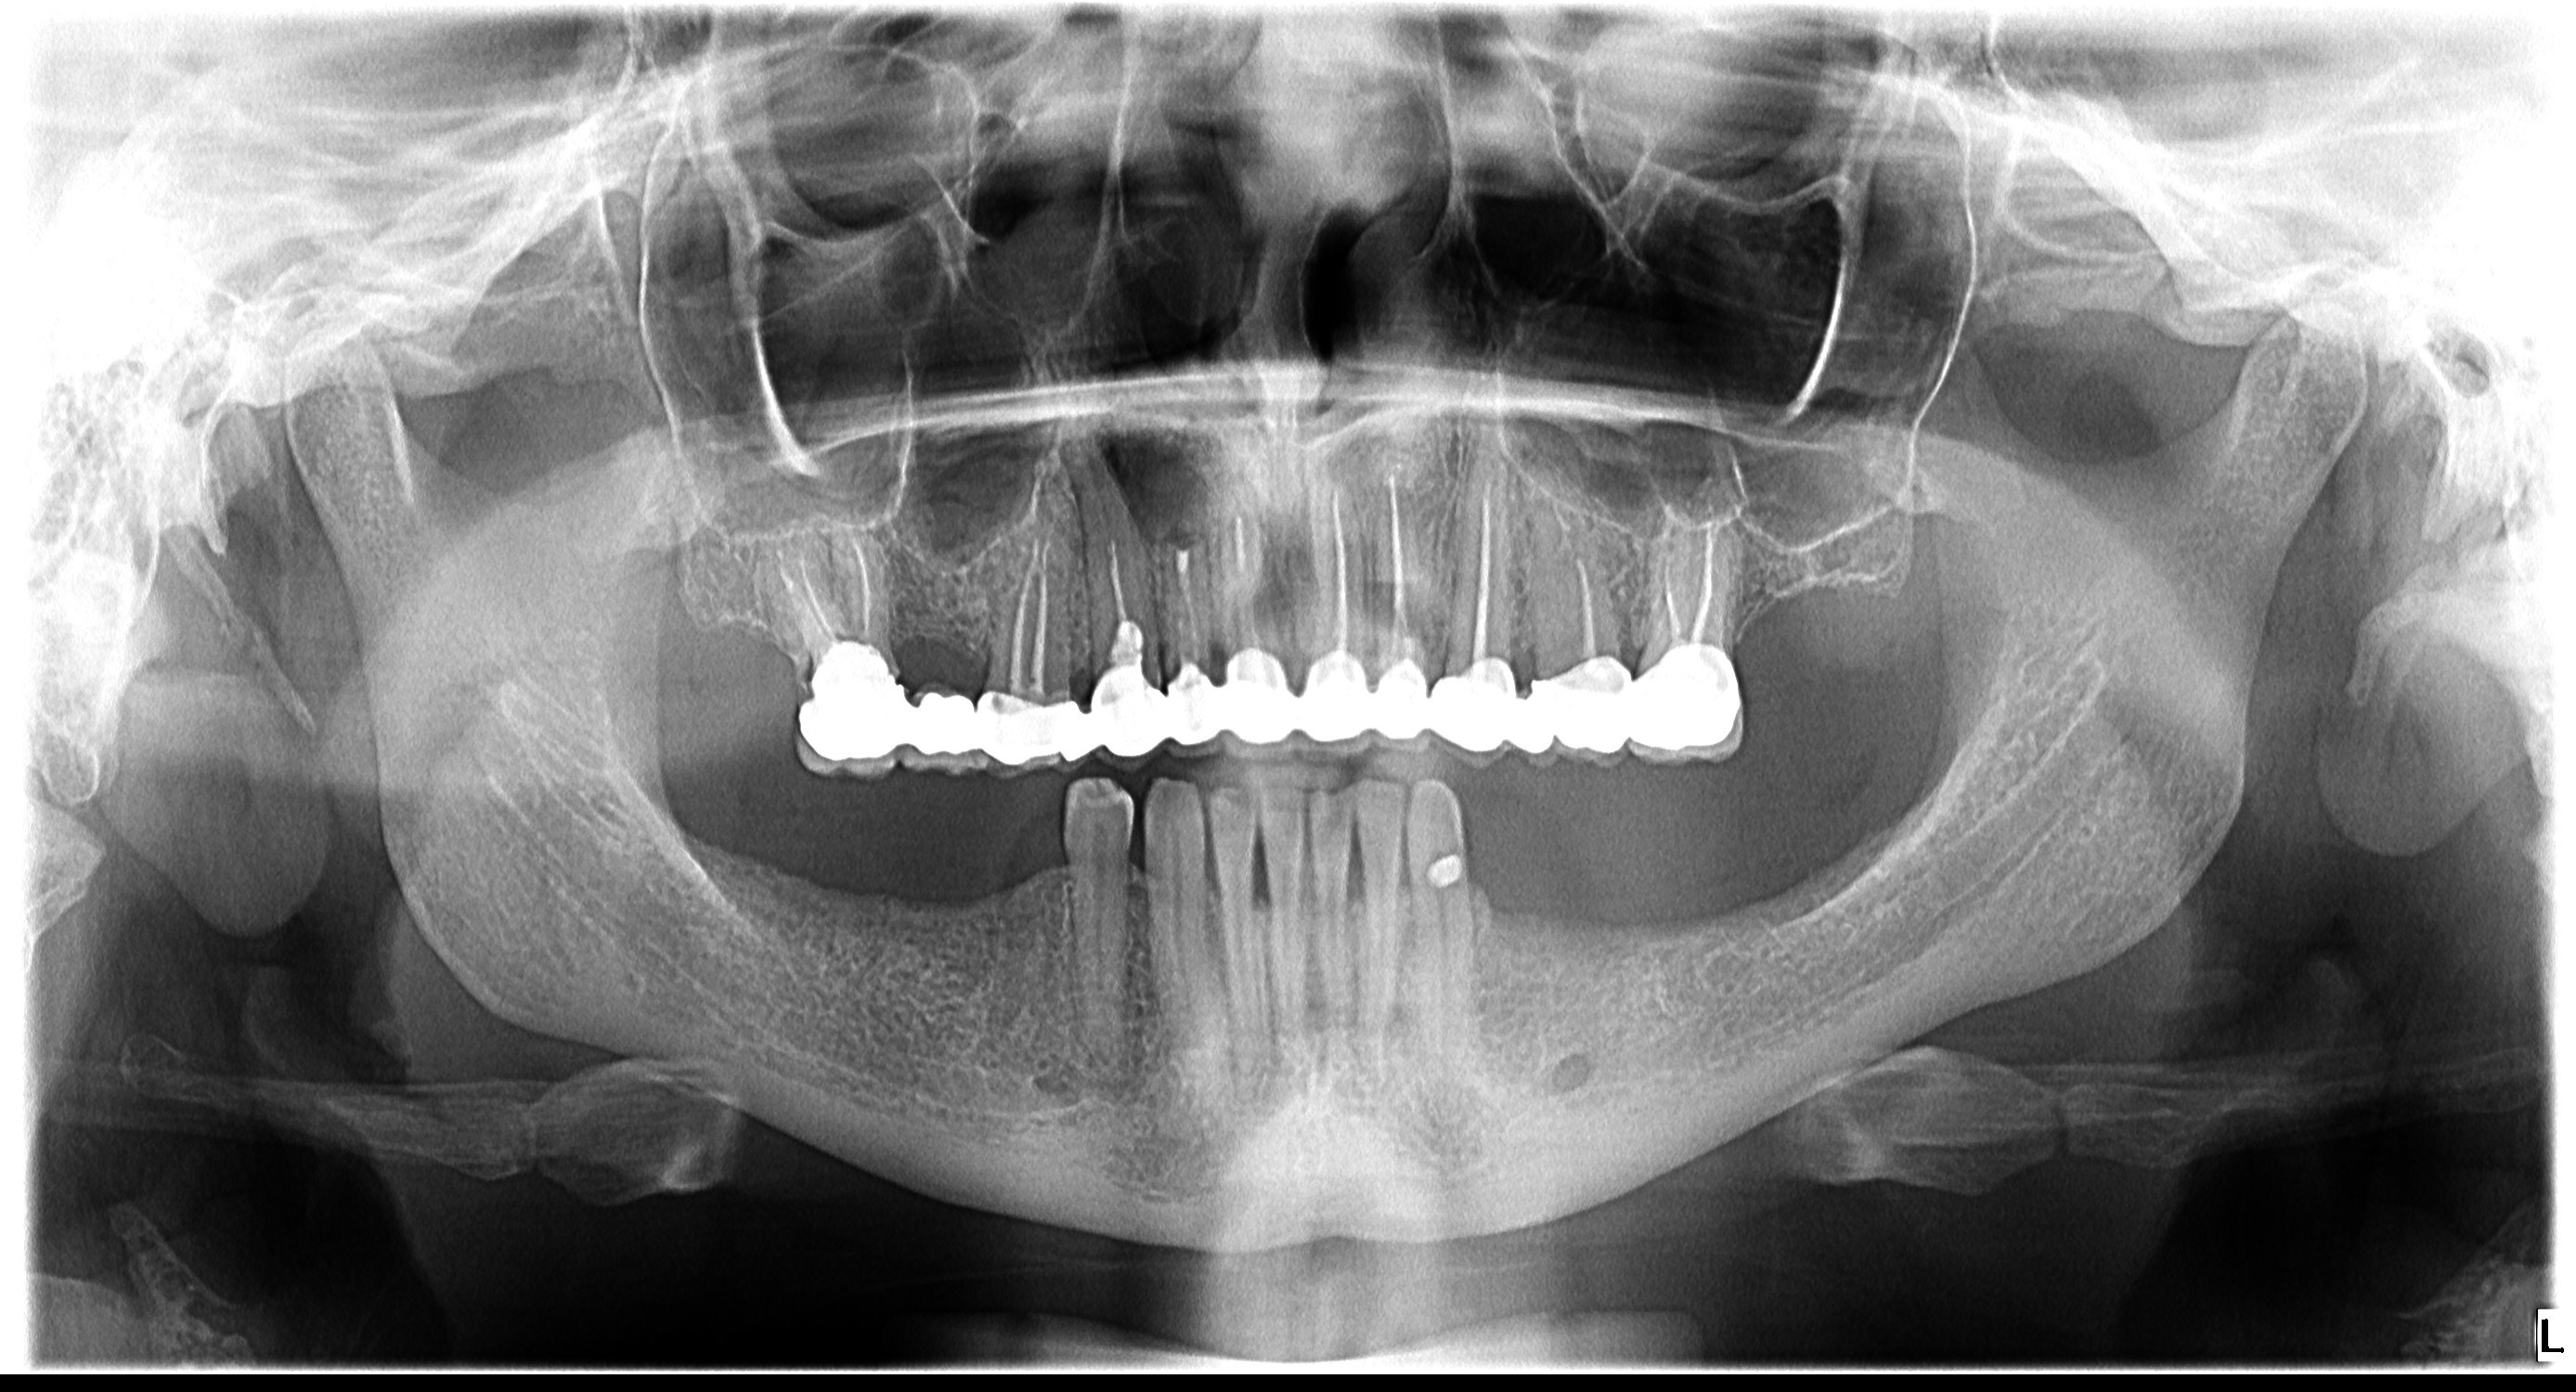CAR: (788, 672, 820, 710), (882, 663, 916, 696)
END: (766, 533, 891, 657), (1648, 504, 1737, 648), (1005, 518, 1070, 699), (1089, 511, 1144, 665), (1374, 466, 1415, 648), (1468, 471, 1504, 665), (1555, 545, 1619, 648), (1324, 487, 1360, 653), (1223, 509, 1264, 645), (1165, 540, 1202, 667)
OBT: (1420, 849, 1470, 898)
PRR: (736, 621, 1771, 795)
